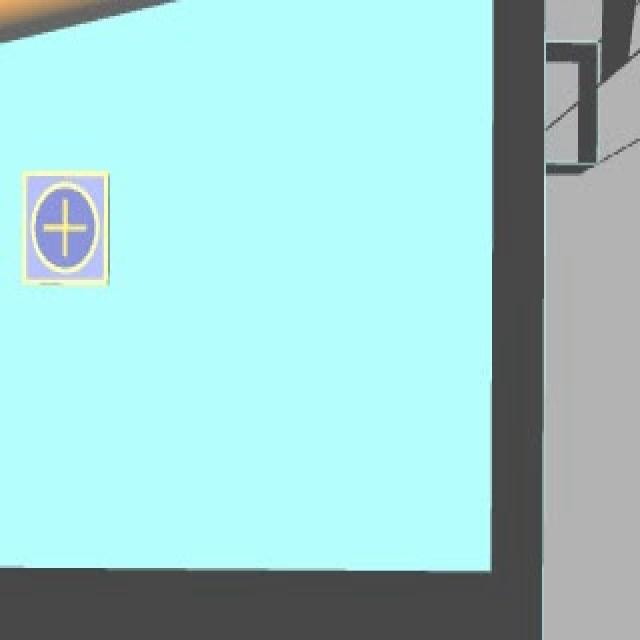Yellow-crosses: (36, 189, 96, 260)
